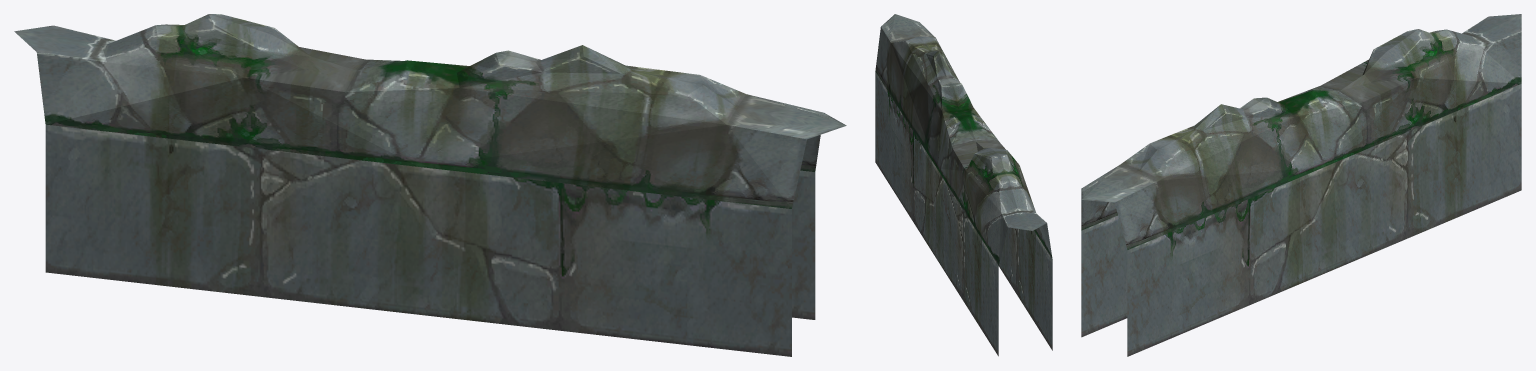
Rendered from stemple_quarter_diagonal_03.fbx.
3 views of the same model, side by side, from view 1: azimuth 30°, elevation 25°; view 2: azimuth 150°, elevation 25°; view 3: azimuth 270°, elevation 25° (orthographic). The views are drawn at different scales.
Parts seen in each view (by area): view 1: obj1.098; view 2: obj1.098; view 3: obj1.098.
Boxes of the visible parts, x1=… form: obj1.098: x1=14, y1=14, x2=846, y2=356; obj1.098: x1=875, y1=14, x2=1052, y2=356; obj1.098: x1=1081, y1=14, x2=1521, y2=356.
Bounding box in the file's own units: 4 × 1.94 × 4.
